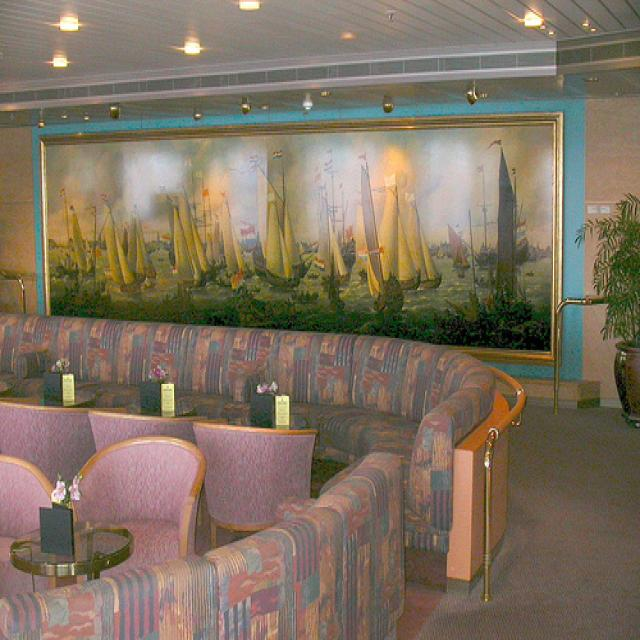chair: (68, 437, 207, 575), (193, 421, 318, 556), (87, 411, 229, 527), (1, 401, 128, 488), (1, 453, 57, 598)
pottedplant: (574, 192, 640, 426)
sofa: (1, 313, 496, 591), (1, 451, 405, 639)
